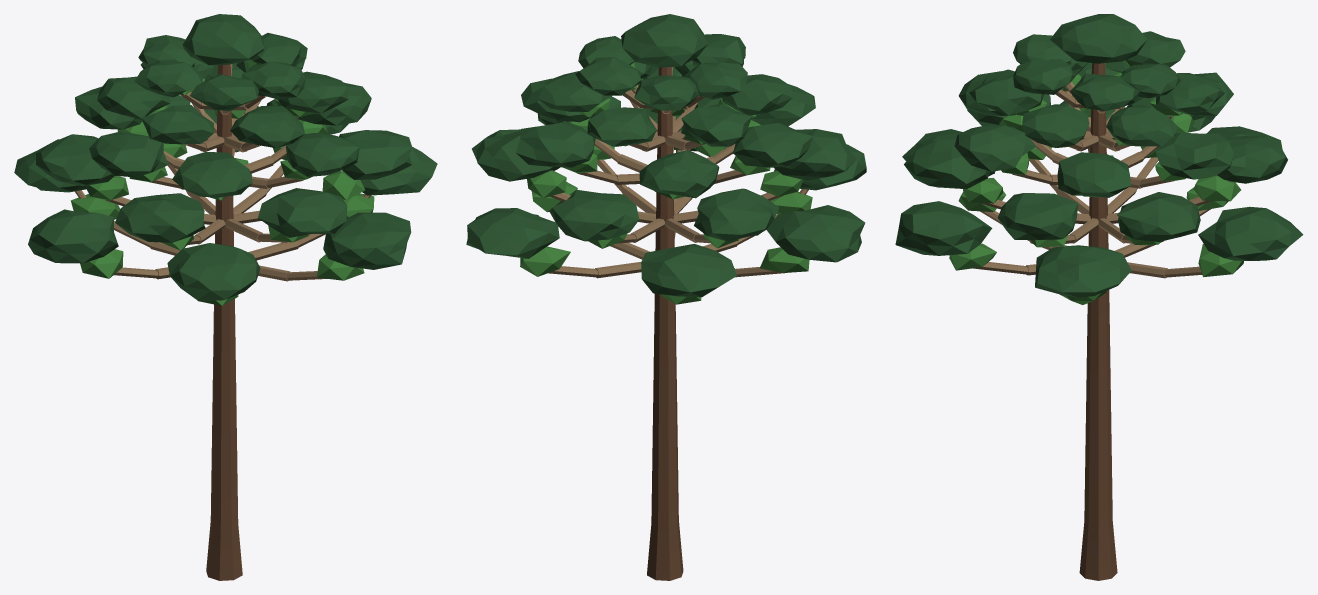
The model's file is araucaria.glb.
3 views of the same model, side by side, from view 1: azimuth 30°, elevation 25°; view 2: azimuth 150°, elevation 25°; view 3: azimuth 270°, elevation 25° (orthographic).
Parts seen in each view (by area): view 1: araucaria; view 2: araucaria; view 3: araucaria.
Part boxes in pixels (<box>): araucaria: <box>14,14,437,580</box>; araucaria: <box>466,14,866,580</box>; araucaria: <box>895,14,1303,580</box>.
Size of the model in its own units: 4.71 by 6.43 by 4.3.
